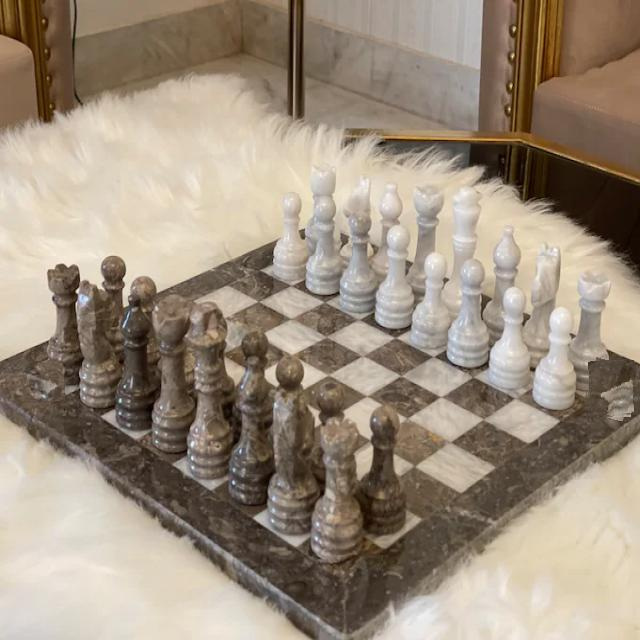chess-table-corners: (585, 360, 634, 419), (319, 555, 383, 600), (27, 360, 65, 402), (302, 226, 353, 256)
